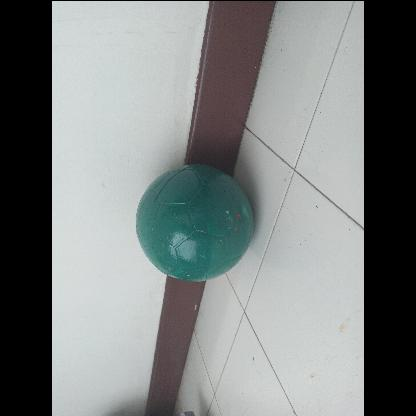green_ball: (132, 160, 252, 280)
